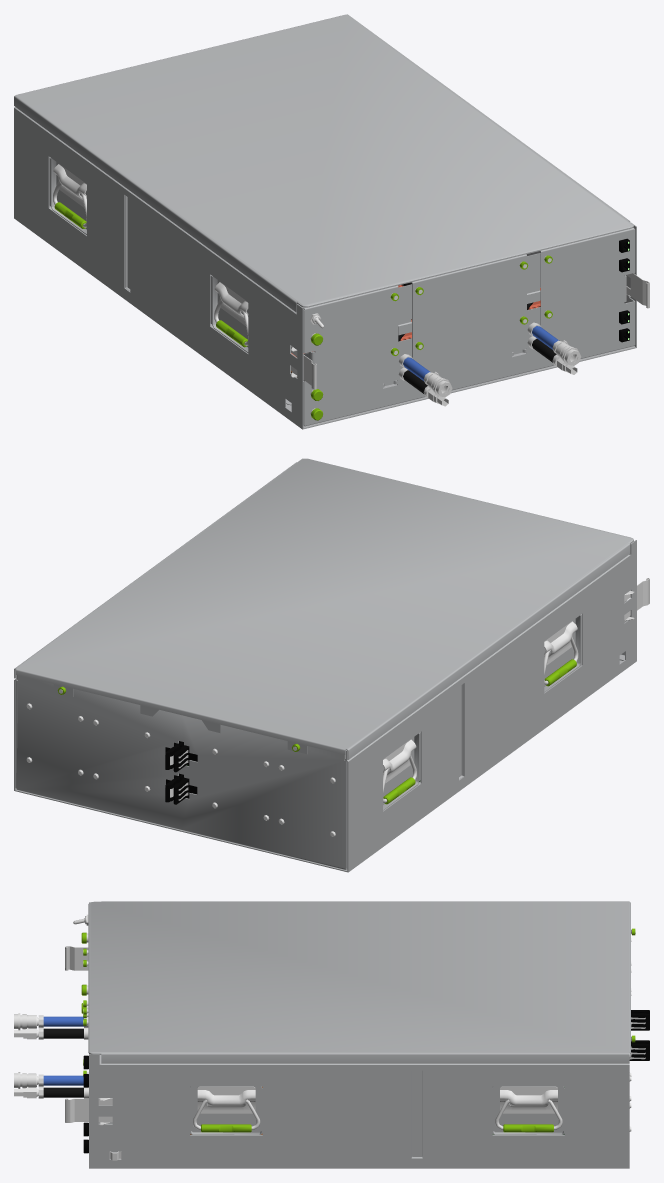
Rendered from ttv.glb.
The picture shows the model from 3 angles, top to bottom: view 1: azimuth 30°, elevation 25°; view 2: azimuth 150°, elevation 25°; view 3: azimuth 270°, elevation 25°; orthographic projection. The views are drawn at different scales.
Parts seen in each view (by area): view 1: TTV Chassis Top_Merged, TTV Chassis_Merged; view 2: TTV Chassis Top_Merged, TTV Chassis_Merged; view 3: TTV Chassis Top_Merged, TTV Chassis_Merged.
Part boxes in pixels (box(x1,y1,x2,y2)): TTV Chassis Top_Merged: box(14, 14, 633, 311); TTV Chassis_Merged: box(14, 107, 649, 429); TTV Chassis Top_Merged: box(14, 458, 633, 759); TTV Chassis_Merged: box(14, 458, 649, 872); TTV Chassis Top_Merged: box(88, 901, 630, 1063); TTV Chassis_Merged: box(14, 902, 649, 1168).
Size of the model in its own units: 0.549 by 0.1884 by 0.9439.
17 materials, 2 textured.
